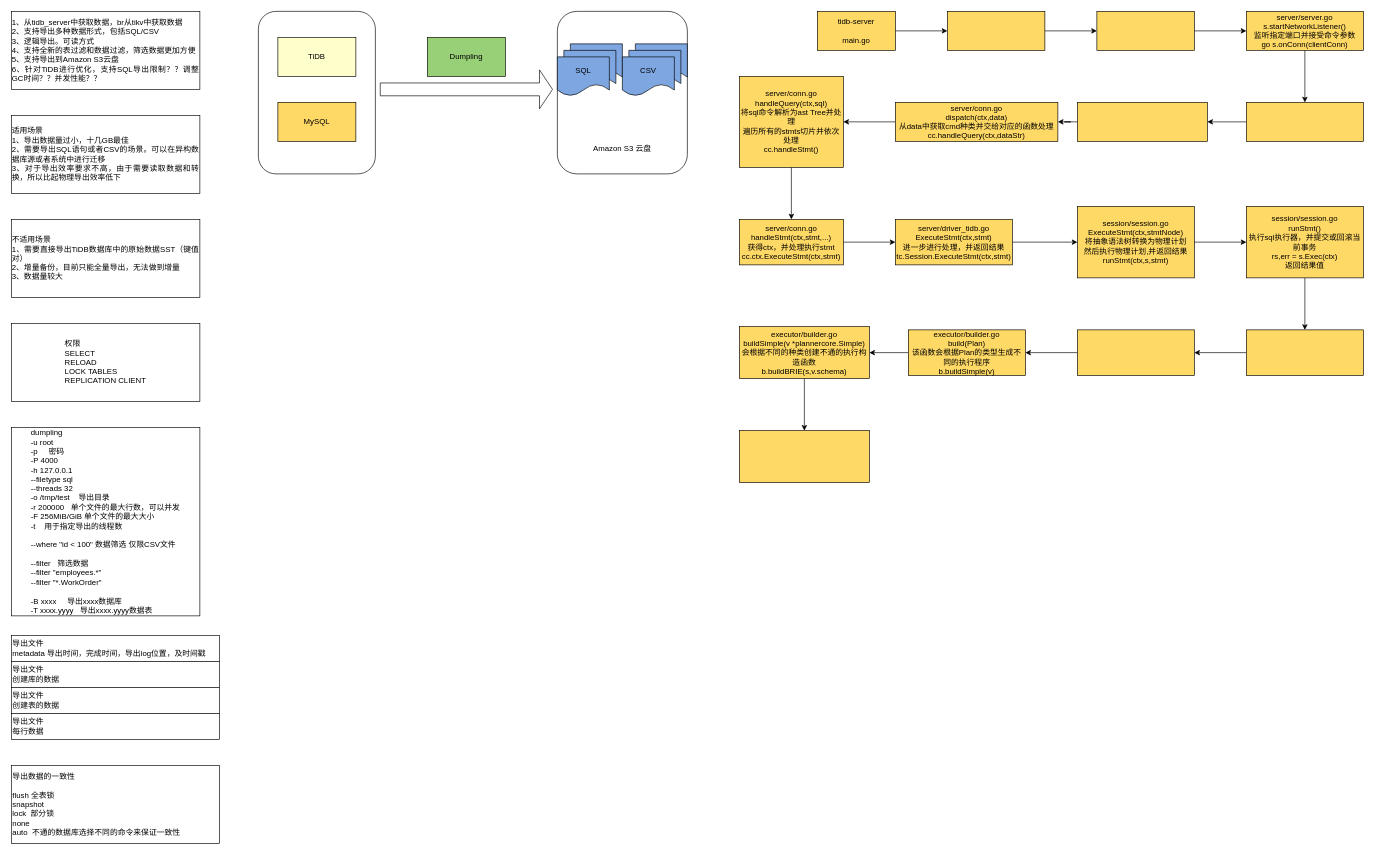
The diagram is 1375 pixels wide and 855 high, and some of its shapes have lost their labels. The centre of each missing label's shape, as x and y in pixels:
executor/adapter.go buildExecutor() 从计划中构建一个执行程序 e := b.build(a.Plan): (x=1135, y=352)
executor/adapter.go Exec(ctx) 从执行计划中构建一个执行器 e,err = a.buildExecutor(): (x=1304, y=352)
executor/brie.go buildBRIE(s,schema) 创建对应brie的执行器Exec{}: (x=804, y=456)
server/conn.go Run(ctx) 从ctx中获取data交给dispatch处理 cc.dispatch(ctx,data): (x=1142, y=121)
server/server.go onConn() 获取连接的信息ctx conn.Run(ctx): (x=1304, y=121)
server/server.go Run() go s.startNetworkListener(): (x=1145, y=30)
terror.MustNil(svr.Run()) 启动server: (x=996, y=30)
数据迁移: (x=466, y=89)
